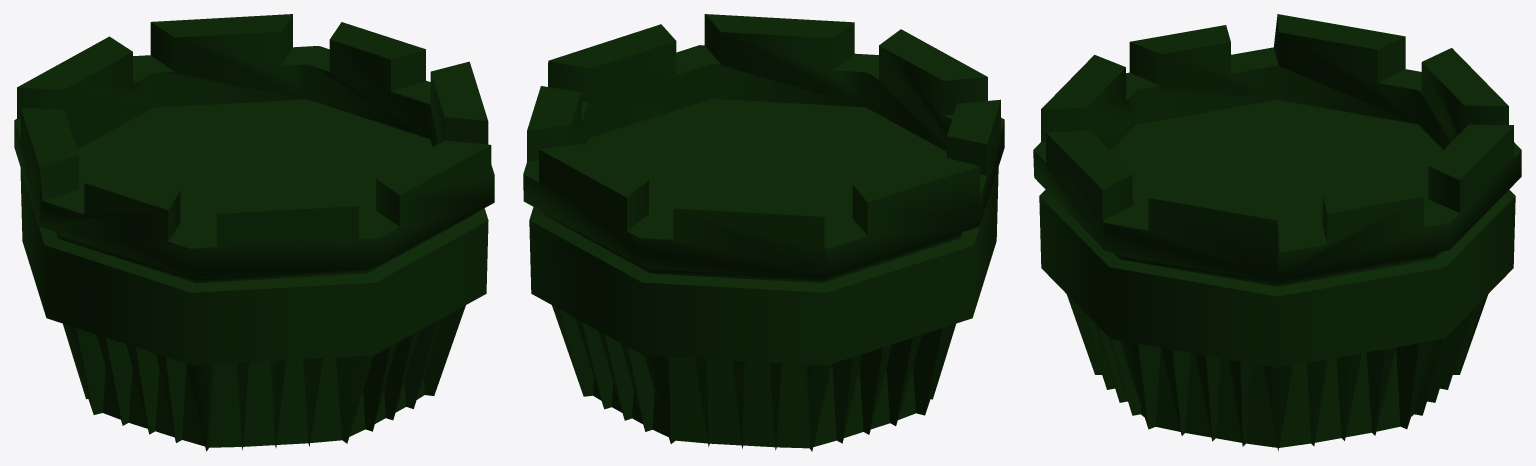
Rendered from round-tower-top-3.fbx.
3 views of the same model, side by side, from view 1: azimuth 30°, elevation 25°; view 2: azimuth 150°, elevation 25°; view 3: azimuth 270°, elevation 25° (orthographic).
Visible parts, largest first — view 1: round-tower-top-3; view 2: round-tower-top-3; view 3: round-tower-top-3.
Part boxes in pixels (x1,y1,x2,y2): round-tower-top-3: (14,14,494,451); round-tower-top-3: (523,14,1004,451); round-tower-top-3: (1033,14,1521,451).
Bounding box in the file's own units: 4.17 × 2.44 × 4.17.
